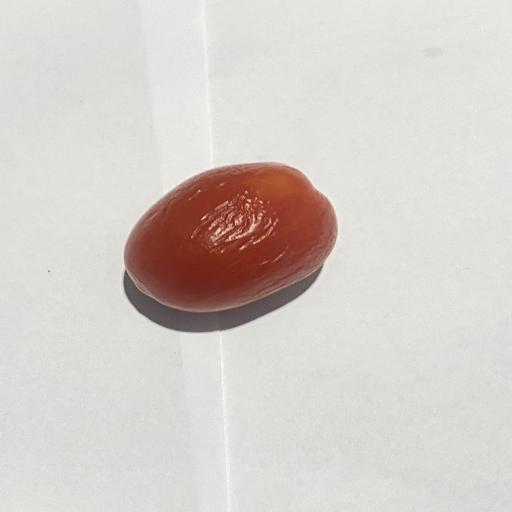spoiled: (124, 163, 337, 312)
